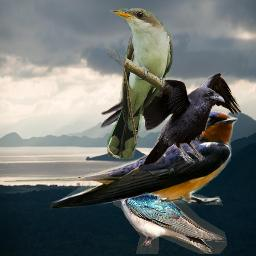Crow: (99, 72, 242, 165)
Cuckoo: (107, 8, 173, 159)
Swallow: (3, 108, 238, 209), (112, 174, 227, 254)
